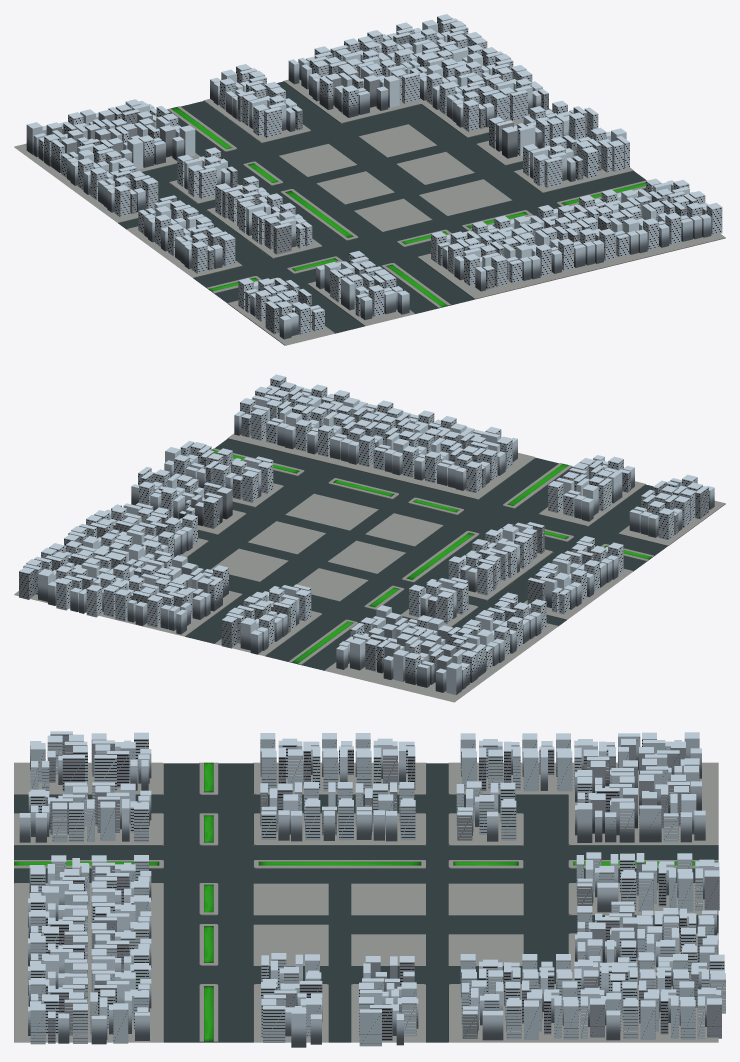
File: Outer Area.glb
3 renders of one model, top to bottom at view 1: azimuth 30°, elevation 25°; view 2: azimuth 150°, elevation 25°; view 3: azimuth 270°, elevation 25°, orthographic. The views are drawn at different scales.
Visible parts, largest first — view 1: Street_Layout, Building1, Buildings, Buildings.001, Buildings1243, Buildings465, Buildings.004, Buildings.002, Building3, Building4, Buildings.003, Sidewalk2 (+12 smaller); view 2: Street_Layout, Building1, Buildings, Buildings.001, Buildings1243, Buildings.002, Buildings.004, Buildings465, Building3, Buildings.003, Building4, Sidewalk2 (+11 smaller); view 3: Street_Layout, Building1, Buildings, Buildings.001, Buildings.004, Buildings.002, Buildings1243, Building3, Building4, Buildings465, Sidewalk2, Buildings.003 (+19 smaller).
Boxes of the visible parts, box(x1,y1,x2,y2) form: Street_Layout: box(14, 81, 646, 345); Building1: box(288, 14, 548, 132); Buildings: box(431, 178, 722, 291); Buildings.001: box(26, 99, 195, 217); Buildings1243: box(138, 195, 235, 273); Buildings465: box(523, 127, 629, 188); Buildings.004: box(215, 176, 312, 254); Buildings.002: box(210, 64, 302, 137); Building3: box(316, 251, 409, 319); Building4: box(238, 277, 324, 339); Buildings.003: box(489, 100, 598, 158); Sidewalk2: box(418, 233, 725, 299); Street_Layout: box(14, 439, 667, 702); Building1: box(19, 502, 228, 634); Buildings: box(234, 374, 517, 492); Buildings.001: box(336, 592, 546, 694); Buildings1243: box(527, 536, 623, 614); Buildings.002: box(221, 584, 311, 654); Buildings.004: box(448, 522, 544, 595); Buildings465: box(164, 441, 273, 502); Building3: box(548, 455, 634, 521); Buildings.003: box(131, 467, 232, 528); Building4: box(629, 474, 714, 539); Sidewalk2: box(227, 433, 535, 499); Street_Layout: box(14, 763, 718, 1042); Building1: box(460, 901, 725, 1040); Buildings: box(28, 855, 151, 1044); Buildings.001: box(460, 732, 705, 842); Buildings.004: box(260, 782, 415, 841); Buildings.002: box(576, 852, 719, 912); Buildings1243: box(260, 733, 415, 791); Building3: box(19, 782, 151, 842); Building4: box(30, 731, 151, 791); Buildings465: box(261, 953, 322, 1047); Sidewalk2: box(14, 883, 163, 1041); Buildings.003: box(359, 956, 418, 1046).
Size of the model in its own units: 358 by 20.76 by 380.
1 material, 1 textured.
